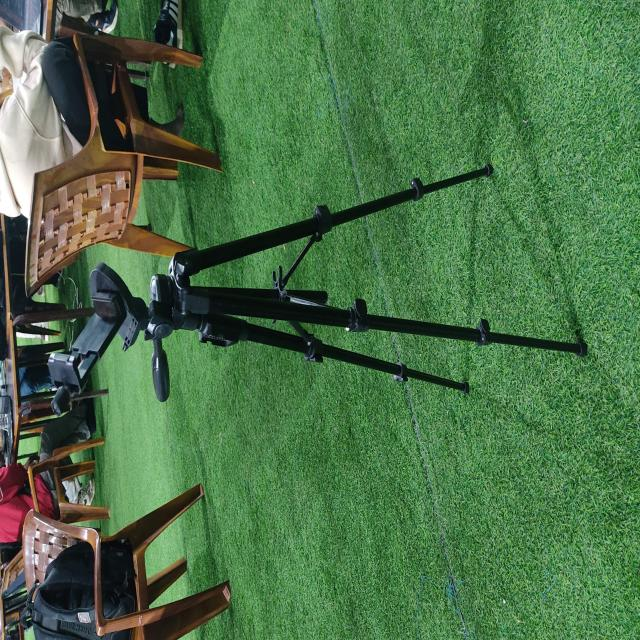Camer Stand: (46, 161, 588, 411)
Chair: (20, 483, 232, 639)
